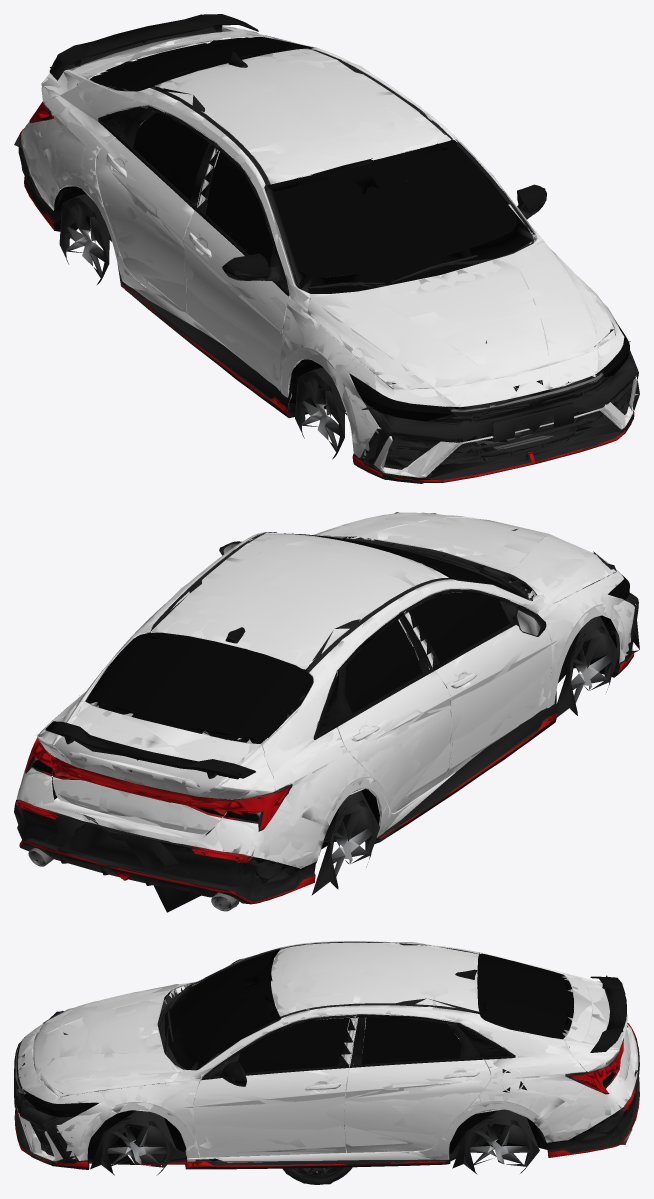
Rendered from sedan9.glb.
3 views of the same model, one above another, from view 1: azimuth 30°, elevation 25°; view 2: azimuth 150°, elevation 25°; view 3: azimuth 270°, elevation 25° (orthographic). The views are drawn at different scales.
Visible parts, largest first — view 1: body0, body1, body2; view 2: body0, body1, body2; view 3: body0, body2, body1, wheel0, wheel1.
Boxes of the visible parts, box(x1,y1,x2,y2) form: body0: box(18, 14, 638, 483); body1: box(19, 23, 638, 482); body2: box(14, 14, 639, 479); body0: box(14, 512, 638, 911); body1: box(14, 512, 637, 910); body2: box(16, 512, 639, 912); body0: box(14, 941, 639, 1169); body2: box(18, 942, 637, 1175); body1: box(14, 941, 639, 1169); wheel0: box(282, 1167, 352, 1184); wheel1: box(283, 1167, 351, 1184).
Bounding box in the file's own units: 2.13 × 1.74 × 4.68.
